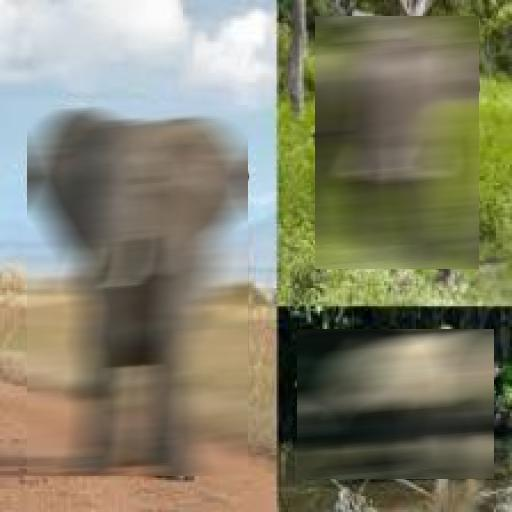Elephant: (27, 105, 248, 476), (315, 16, 479, 269), (297, 329, 494, 479)
